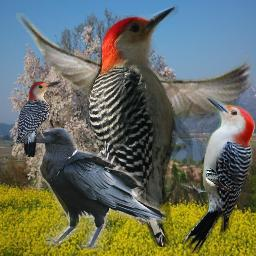Crow: (31, 128, 166, 250)
Swallow: (16, 13, 255, 156), (205, 168, 234, 191)
Woodpecker: (85, 5, 193, 247), (181, 96, 255, 254), (16, 81, 61, 157)
